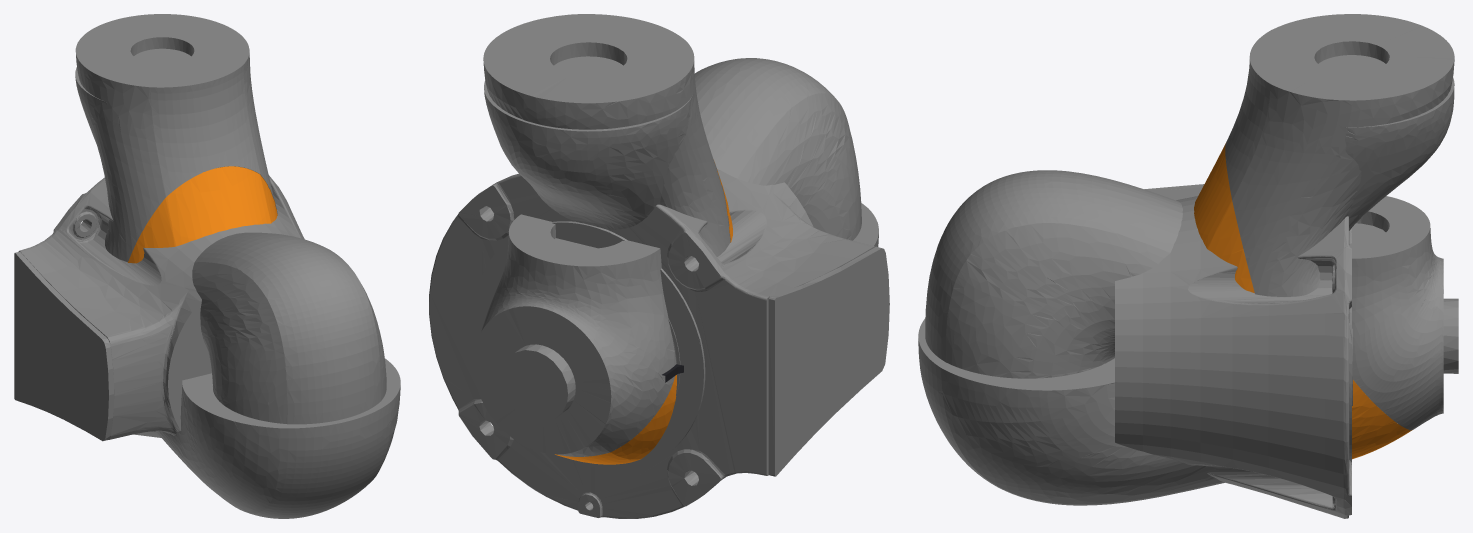
File: arm.glb
The picture shows the model from 3 angles, left to right: view 1: azimuth 30°, elevation 25°; view 2: azimuth 150°, elevation 25°; view 3: azimuth 270°, elevation 25°; orthographic projection. The views are drawn at different scales.
Visible parts, largest first — view 1: b3, b1, b4, b2, b5; view 2: b1, b7, b3, b4, b5, b2; view 3: b1, b3, b4, b2, b7, b5.
Part boxes in pixels (x1=…): b3: x1=75, y1=14, x2=277, y2=263; b1: x1=14, y1=175, x2=304, y2=441; b4: x1=192, y1=232, x2=386, y2=424; b2: x1=155, y1=358, x2=400, y2=518; b5: x1=75, y1=67, x2=107, y2=143; b1: x1=429, y1=169, x2=889, y2=518; b7: x1=473, y1=214, x2=676, y2=464; b3: x1=474, y1=14, x2=732, y2=469; b4: x1=695, y1=58, x2=861, y2=240; b5: x1=484, y1=80, x2=693, y2=395; b2: x1=474, y1=203, x2=878, y2=469; b1: x1=1115, y1=184, x2=1351, y2=518; b3: x1=1194, y1=14, x2=1454, y2=462; b4: x1=925, y1=170, x2=1182, y2=378; b2: x1=918, y1=318, x2=1224, y2=505; b7: x1=1349, y1=196, x2=1458, y2=459; b5: x1=1345, y1=77, x2=1454, y2=405.
Size of the model in its own units: 0.2573 by 0.3259 by 0.3587.
